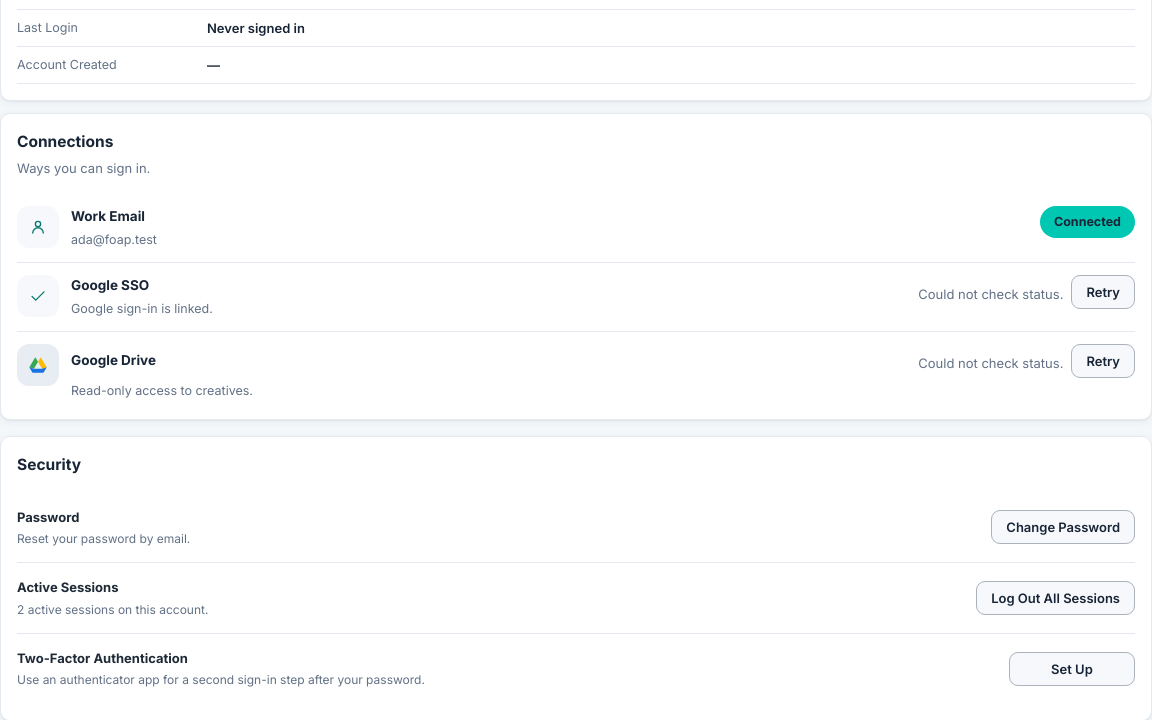
Test case: SettingsPage › recovers the Drive status check through Retry
(page scrolled)
Expected: the heading "Connections" is shown, [17,132,113,151]
Expected: the text "Could not check status." in the row of "Google Drive" is shown, [918,355,1063,371]
Click the button "Retry" in the row of "Google Drive" at (1103, 361), box [1071,344,1135,378]
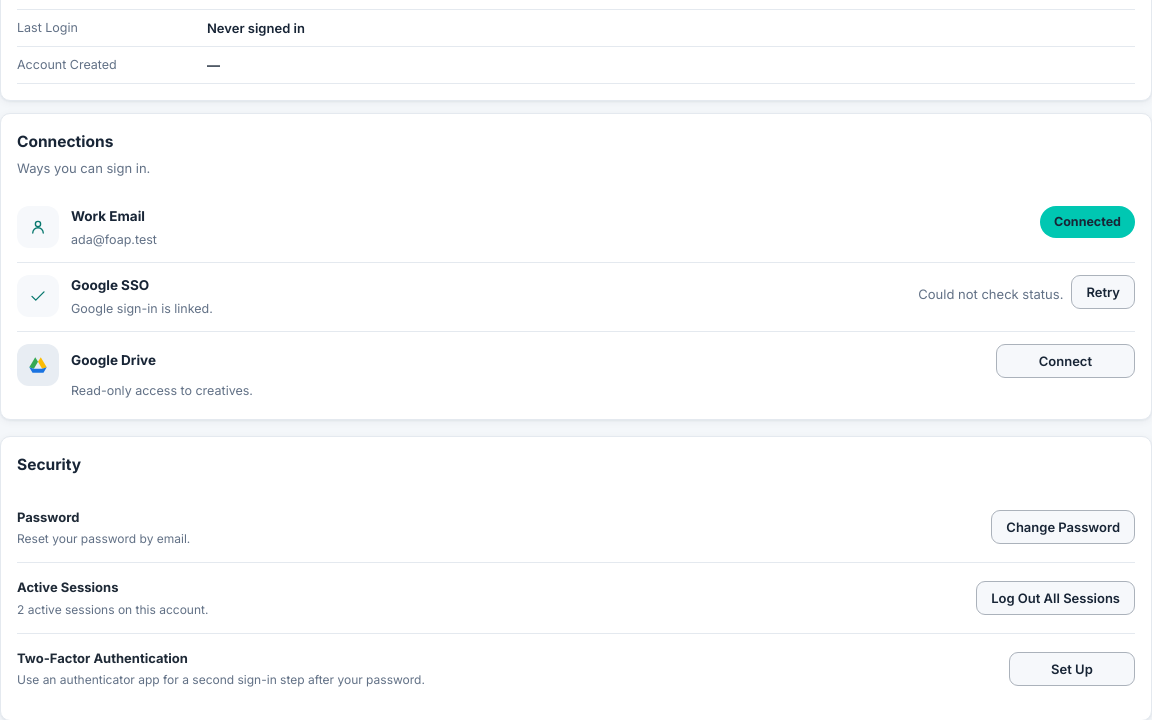
Expected: the button "Connect" is shown, [996,344,1135,378]
